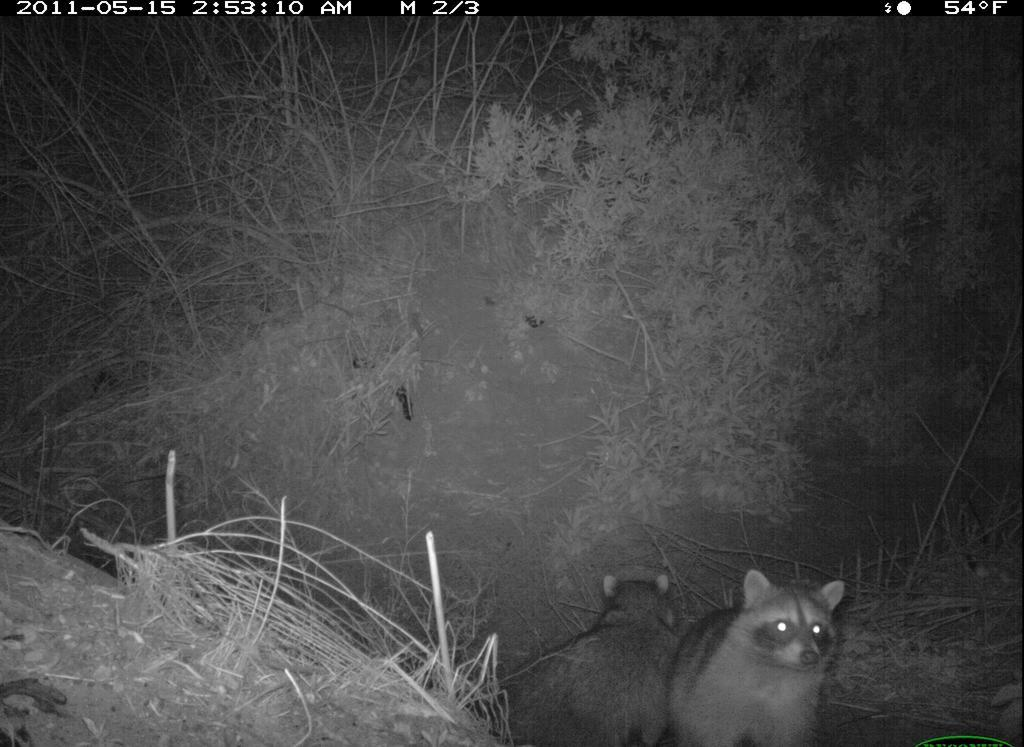raccoon: (495, 566, 693, 742), (699, 564, 847, 747)
